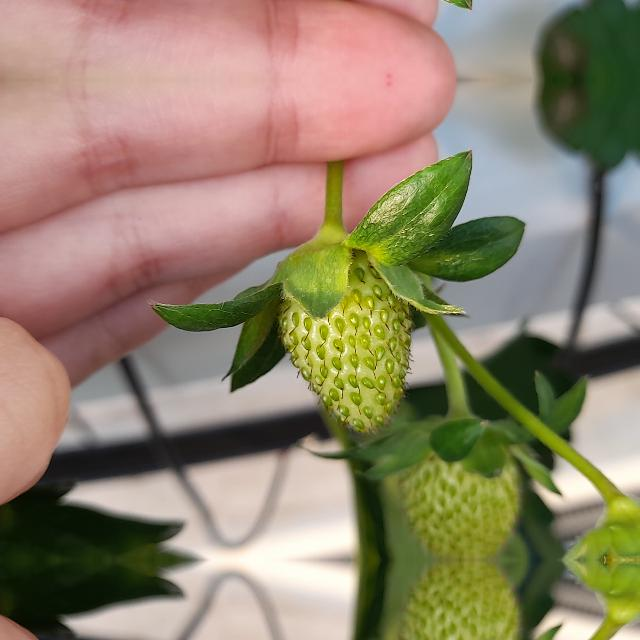Health_25: (276, 249, 414, 437)
